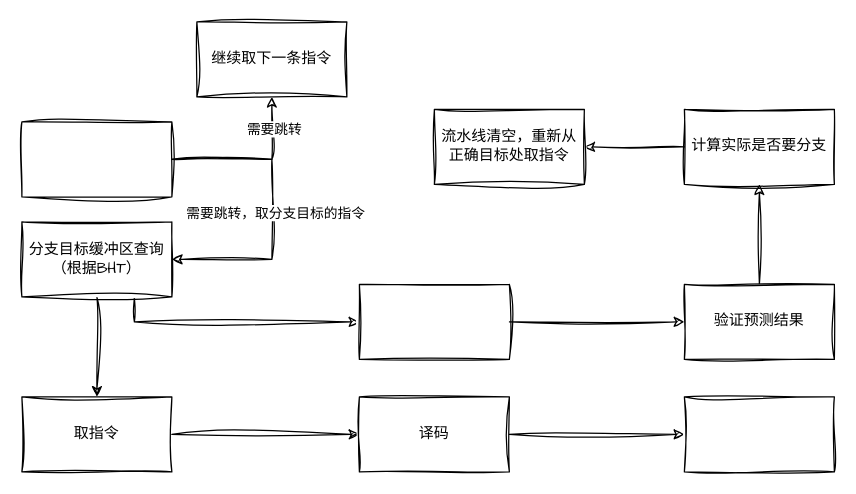
The diagram is 856 pixels wide and 494 high, and some of its shapes have lost their labels. The box of each missing label's shape, as (x1, y1, x2, y2) in pixels:
分支预测（根据BHT）: (21, 121, 172, 197)
执行: (683, 396, 834, 472)
验证预测信息: (358, 283, 509, 359)
